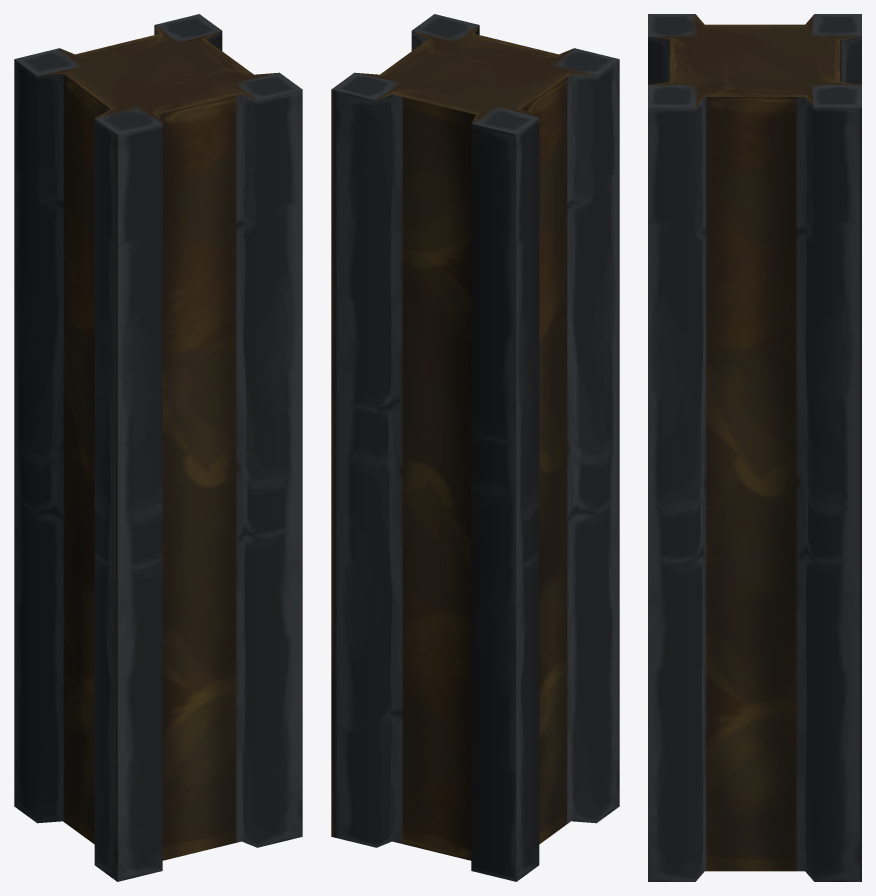
Rendered from column.obj.
The picture shows the model from 3 angles, left to right: view 1: azimuth 30°, elevation 25°; view 2: azimuth 150°, elevation 25°; view 3: azimuth 270°, elevation 25°; orthographic projection. The views are drawn at different scales.
Visible parts, largest first — view 1: pCube1; view 2: pCube1; view 3: pCube1.
Boxes of the visible parts, left/top/right/bottom form: pCube1: left=14, top=14, right=302, bottom=881; pCube1: left=331, top=14, right=619, bottom=881; pCube1: left=648, top=14, right=861, bottom=881.
Size of the model in its own units: 0.5186 by 2 by 0.5006.
Materials: 1 (1 with a texture image).
